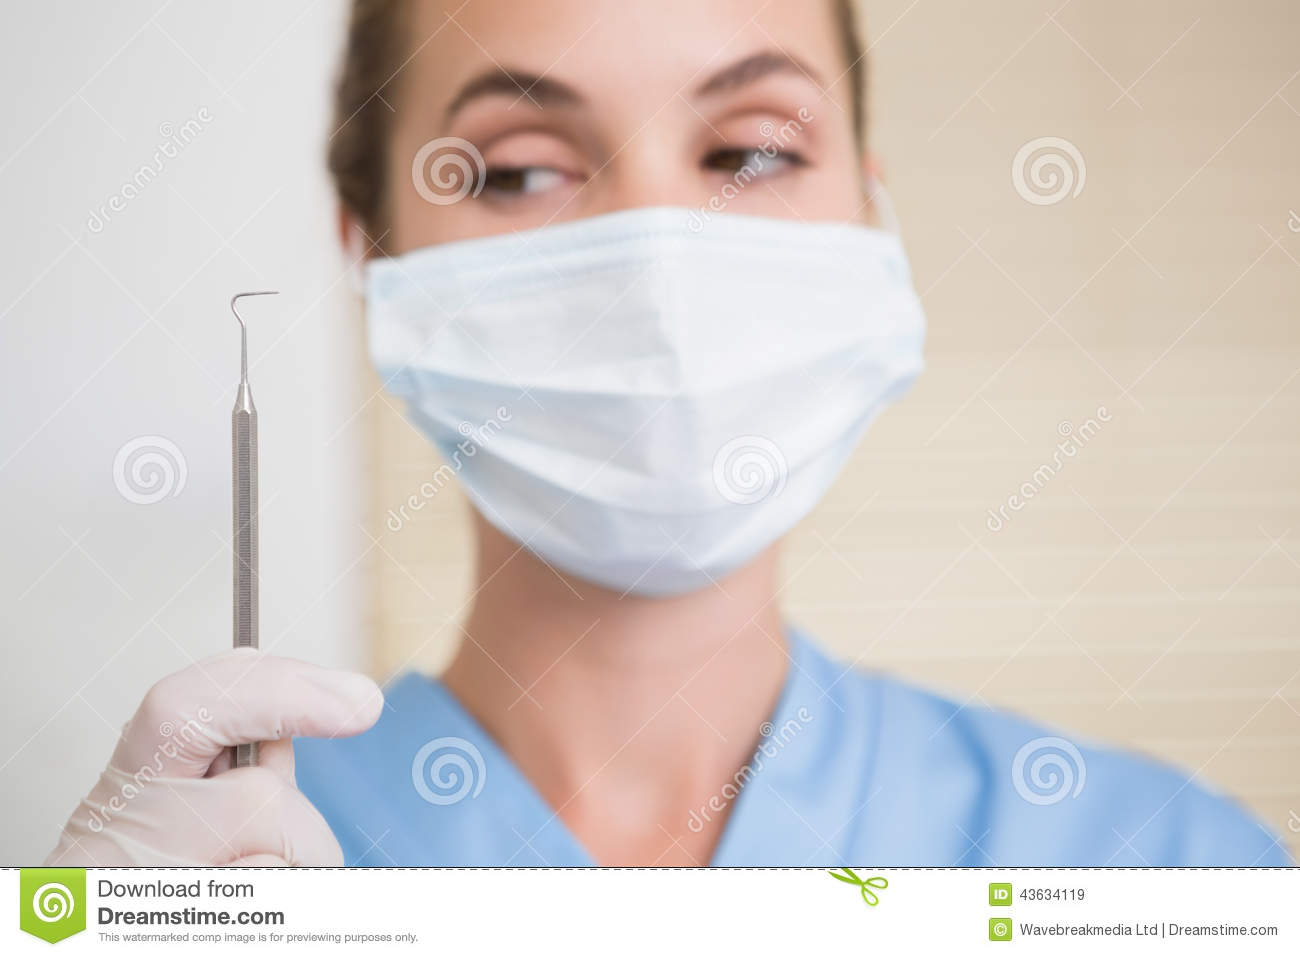mask: (357, 207, 954, 591)
